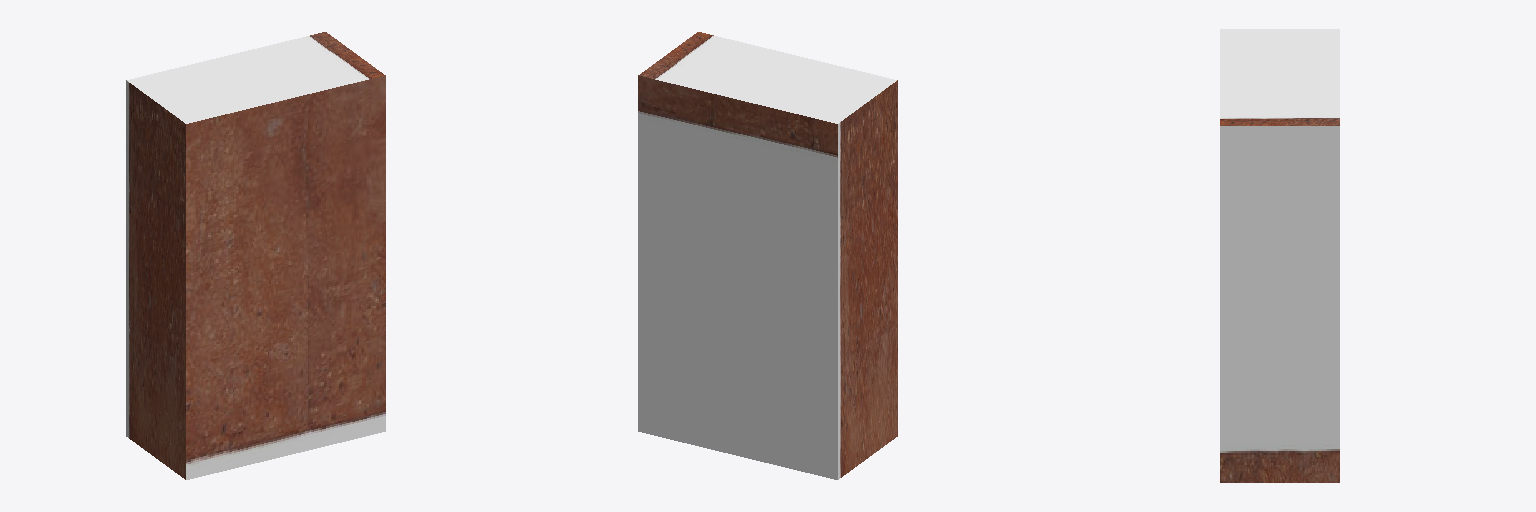
3 views of the same model, side by side, from view 1: azimuth 30°, elevation 25°; view 2: azimuth 150°, elevation 25°; view 3: azimuth 270°, elevation 25° (orthographic).
Parts seen in each view (by area): view 1: Cube; view 2: Cube; view 3: Cube.
Part boxes in pixels (x1,y1,x2,y2): Cube: (126,32,385,479); Cube: (638,32,897,479); Cube: (1220,29,1339,482).
Size of the model in its own units: 2.5 by 4.27 by 1.3.
1 materials, 1 textured.